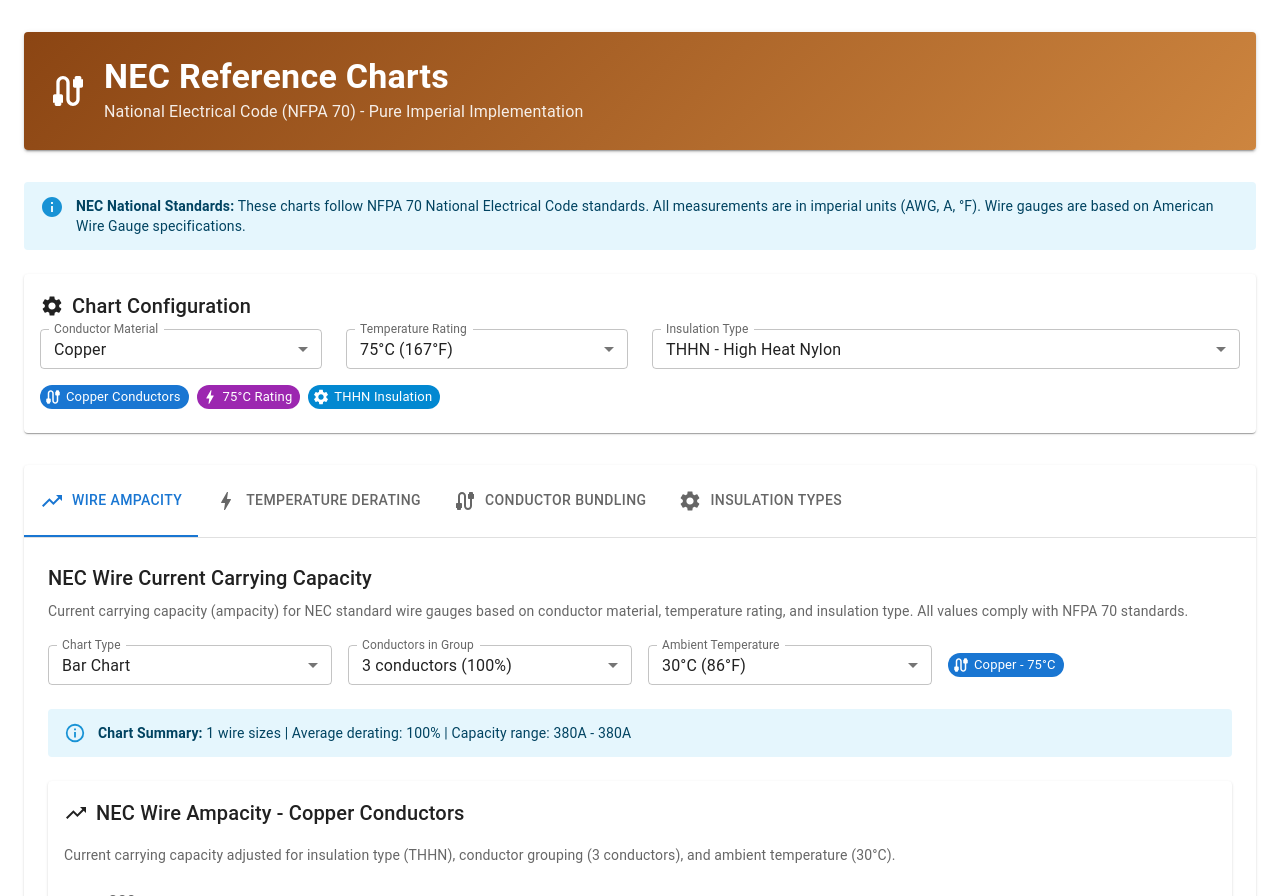
Scenario: NECReferenceChartsPage › Chart Tabs › should switch between tabs
Click on Temperature Derating tab
Click the tab "Temperature Derating" at point(318, 501), box [198,465,437,537]
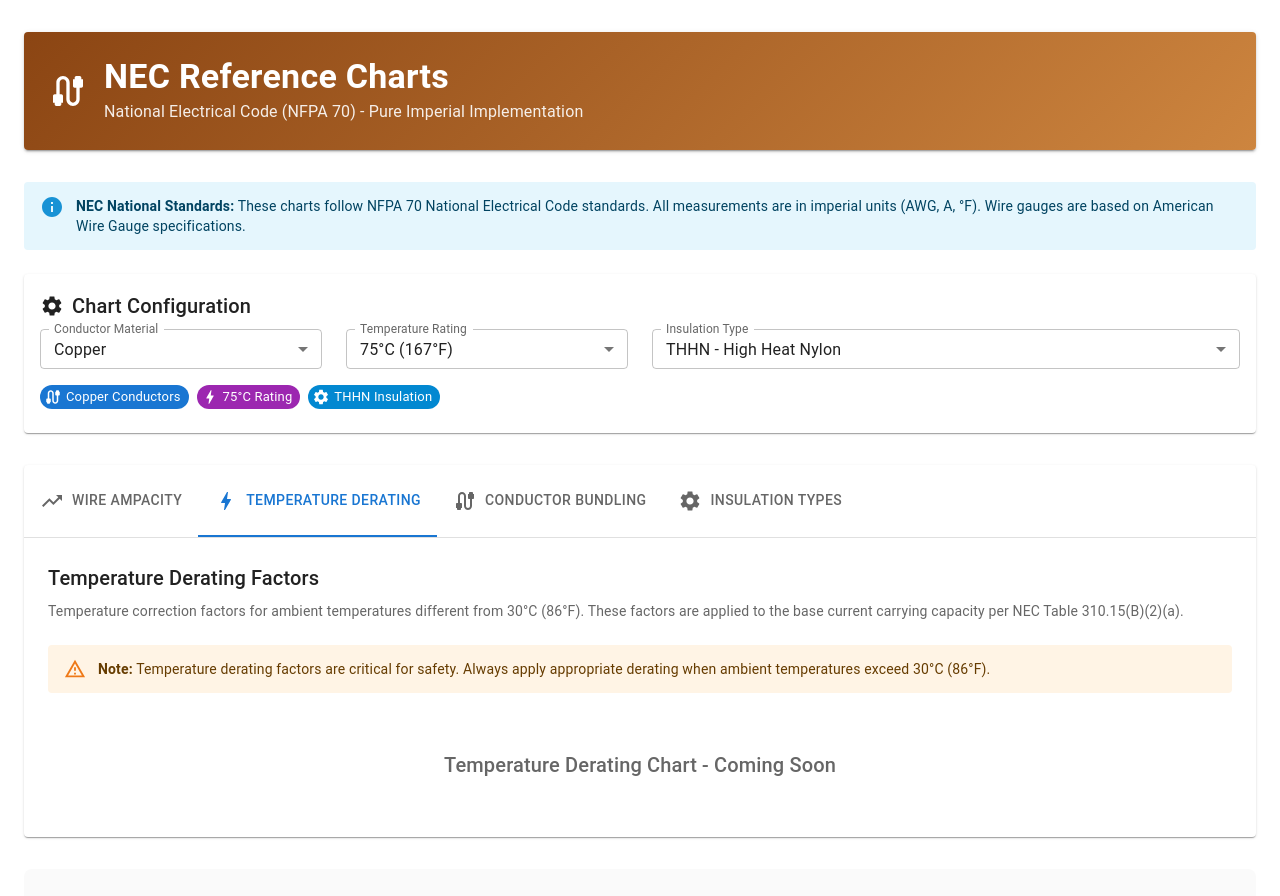
expect the heading "Temperature Derating Factors" is shown: met, box [48,566,319,590]
expect the text "Temperature correction factors" is shown: met, box [48,603,1184,619]
